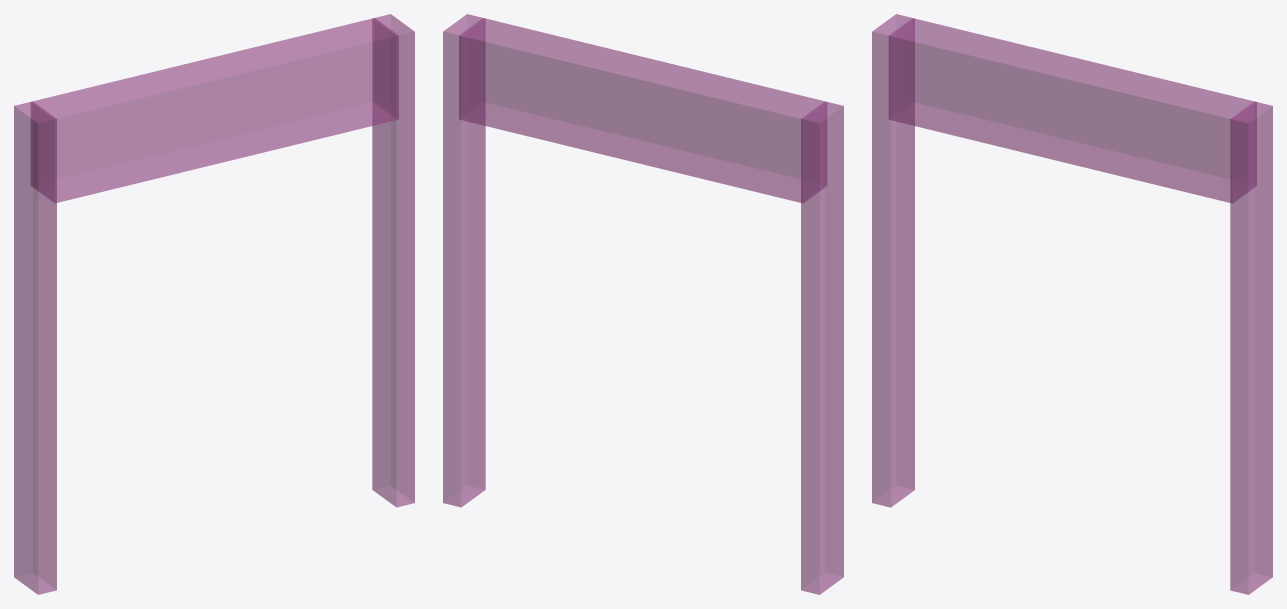
File: SM_Bld_Base_Wall_Door_Double_Large_01_Collision.fbx
The picture shows the model from 3 angles, left to right: view 1: azimuth 30°, elevation 25°; view 2: azimuth 150°, elevation 25°; view 3: azimuth 330°, elevation 25°; orthographic projection.
Parts seen in each view (by area): view 1: SM_Bld_Base_Wall_Door_Double_Large_01_Collision; view 2: SM_Bld_Base_Wall_Door_Double_Large_01_Collision; view 3: SM_Bld_Base_Wall_Door_Double_Large_01_Collision.
Boxes of the visible parts, box(x1,y1,x2,y2) form: SM_Bld_Base_Wall_Door_Double_Large_01_Collision: box(14, 14, 414, 594); SM_Bld_Base_Wall_Door_Double_Large_01_Collision: box(443, 14, 843, 594); SM_Bld_Base_Wall_Door_Double_Large_01_Collision: box(872, 14, 1272, 594).
Size of the model in its own units: 253 by 303 by 28.02.
